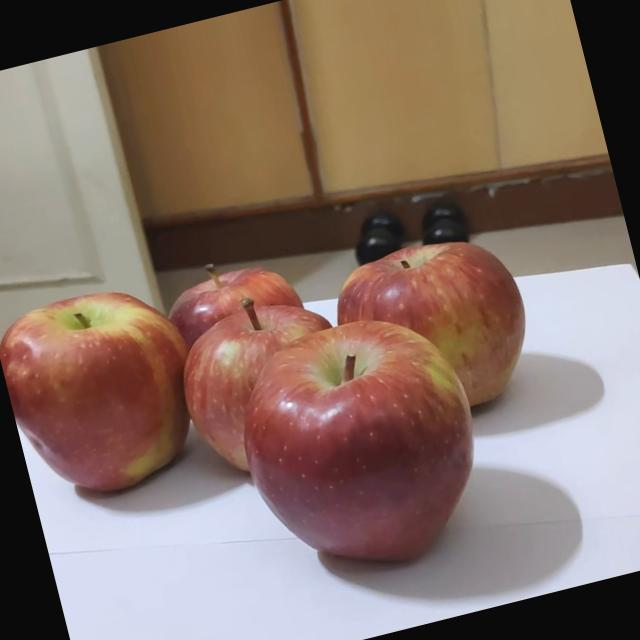apple: (208, 296, 493, 592), (342, 207, 576, 436), (18, 262, 245, 496), (180, 268, 382, 471), (190, 234, 360, 400)
